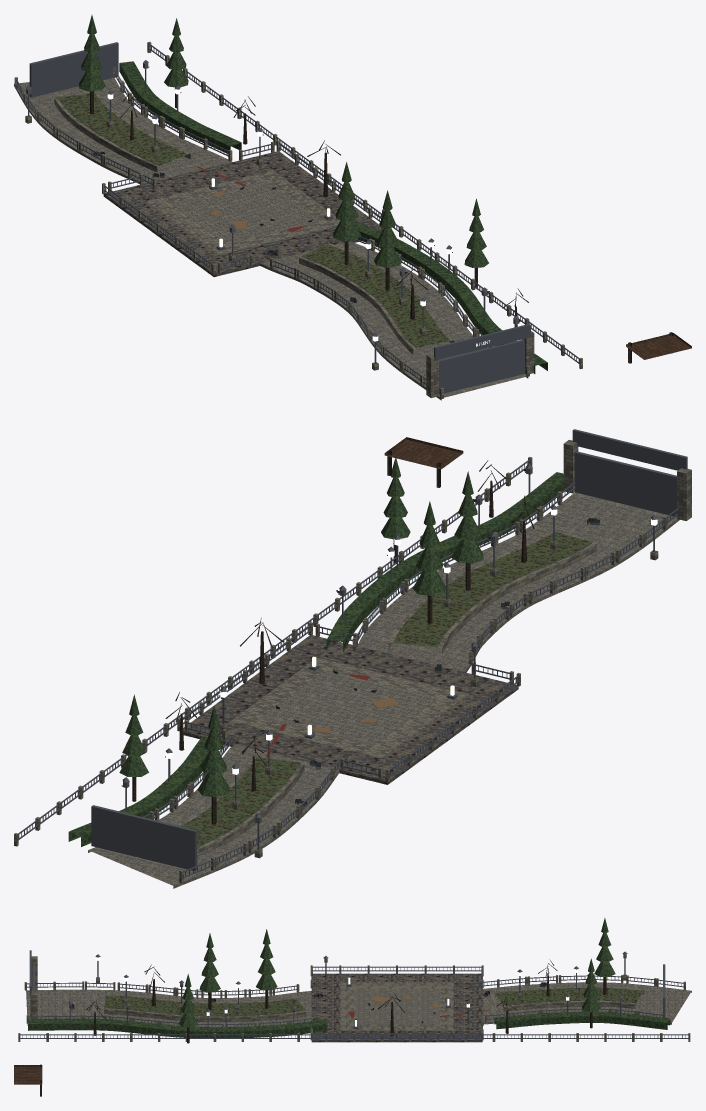
File: MB_Route_B.fbx
3 views of the same model, one above another, from view 1: azimuth 30°, elevation 25°; view 2: azimuth 150°, elevation 25°; view 3: azimuth 270°, elevation 25° (orthographic). The views are drawn at different scales.
Parts seen in each view (by area): view 1: Floor_B_Lanes, Floor_B_Quay, QuayInlay, QuayInlayRing, PlanterSoil, EntryGate_B, PlanterSoil.001, LaneHedge, RearSeal_B, MB_Route_B_Dressing_2_0.001, LaneHedge.001, PlanterRim (+14 smaller); view 2: Floor_B_Lanes, Floor_B_Quay, QuayInlay, QuayInlayRing, PlanterSoil, LaneHedge, RearSeal_B, EntryGate_B, PlanterSoil.001, MB_Route_B_Dressing_2_0.001, PlanterRim, LaneHedge.001 (+16 smaller); view 3: Floor_B_Lanes, Floor_B_Quay, LaneHedge, QuayInlay, QuayInlayRing, PlanterSoil, LaneHedge.001, PlanterSoil.001, PlanterRim, MB_Route_B_Dressing_2_0.001, MB_Route_B_Dressing_2_0.002, MB_Route_B_Dressing_3_0 (+13 smaller).
Part boxes in pixels (box(x1,y1,x2,y2)): Floor_B_Lanes: box(14, 78, 528, 400); Floor_B_Quay: box(103, 151, 380, 276); QuayInlay: box(171, 180, 320, 244); QuayInlayRing: box(146, 170, 340, 254); PlanterSoil: box(301, 244, 450, 348); EntryGate_B: box(439, 339, 524, 394); PlanterSoil.001: box(58, 93, 187, 165); LaneHedge: box(353, 221, 547, 373); RearSeal_B: box(29, 42, 118, 97); MB_Route_B_Dressing_2_0.001: box(333, 162, 401, 290); LaneHedge.001: box(119, 61, 241, 153); PlanterRim: box(299, 243, 454, 354); Floor_B_Lanes: box(88, 492, 679, 888); Floor_B_Quay: box(179, 635, 518, 784); QuayInlay: box(260, 670, 438, 745); QuayInlayRing: box(230, 657, 468, 758); PlanterSoil: box(393, 531, 592, 647); LaneHedge: box(326, 472, 564, 651); RearSeal_B: box(91, 805, 197, 871); EntryGate_B: box(574, 451, 676, 516); PlanterSoil.001: box(180, 757, 300, 847); MB_Route_B_Dressing_2_0.001: box(412, 471, 483, 623); PlanterRim: box(388, 531, 596, 653); LaneHedge.001: box(68, 736, 209, 846); Floor_B_Lanes: box(26, 982, 691, 1026); Floor_B_Quay: box(311, 973, 482, 1042); LaneHedge: box(27, 1018, 327, 1037); QuayInlay: box(354, 988, 439, 1024); QuayInlayRing: box(340, 982, 453, 1030); PlanterSoil: box(104, 995, 305, 1016); LaneHedge.001: box(494, 1011, 670, 1029); PlanterSoil.001: box(495, 987, 643, 1005); PlanterRim: box(104, 994, 306, 1022); MB_Route_B_Dressing_2_0.001: box(199, 929, 277, 1010); MB_Route_B_Dressing_2_0.002: box(185, 1016, 383, 1041); MB_Route_B_Dressing_3_0: box(367, 1009, 550, 1041).
Size of the model in its own units: 3616 by 1548 by 9520.
Materials: 17 (8 with a texture image).
